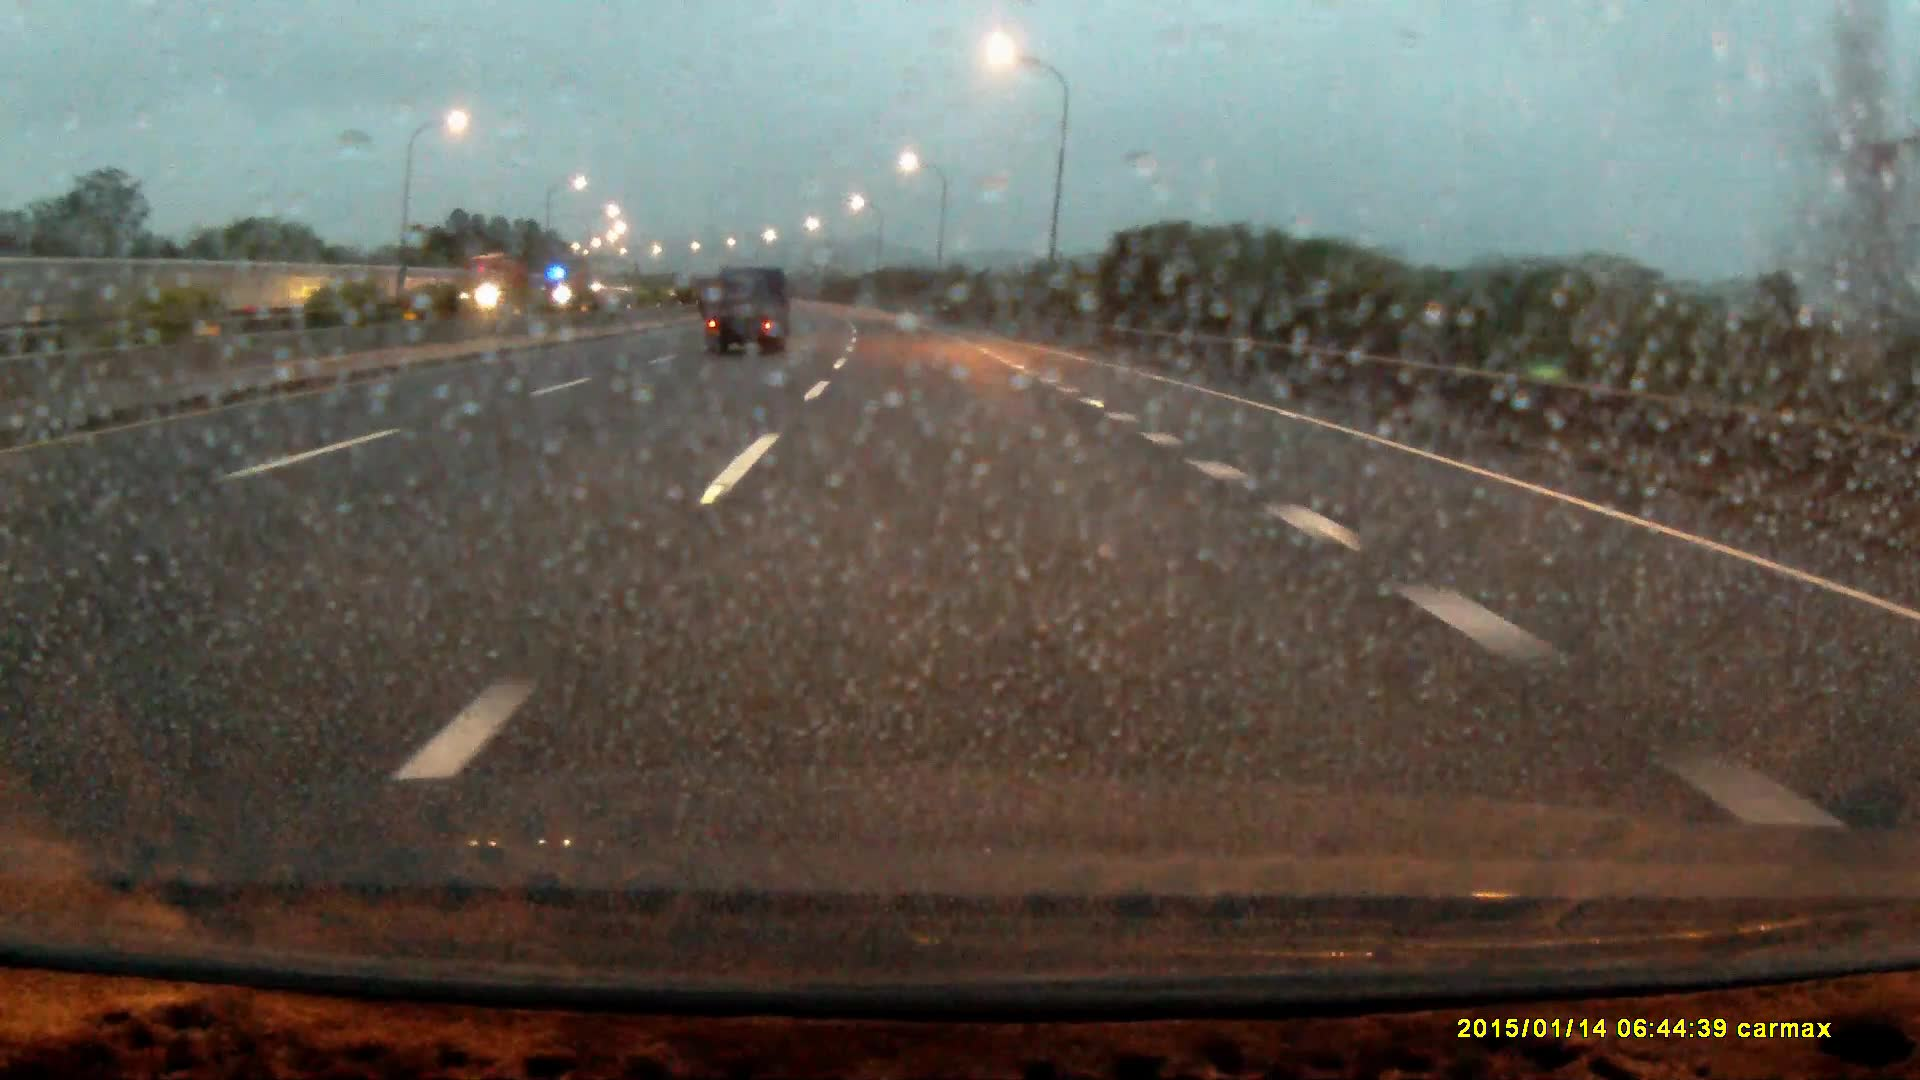vehicle: (708, 266, 789, 360), (458, 251, 529, 313)
